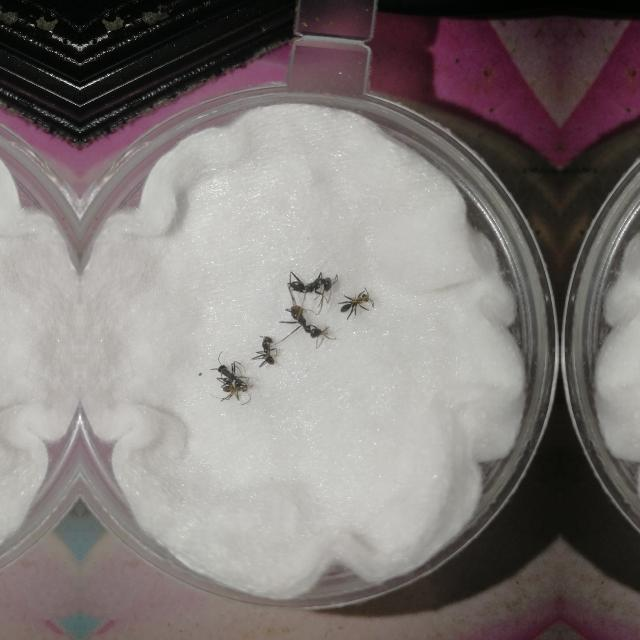Cataglyphis: (280, 300, 328, 354), (284, 262, 340, 304), (210, 352, 253, 406), (336, 282, 376, 322), (250, 329, 280, 376)
